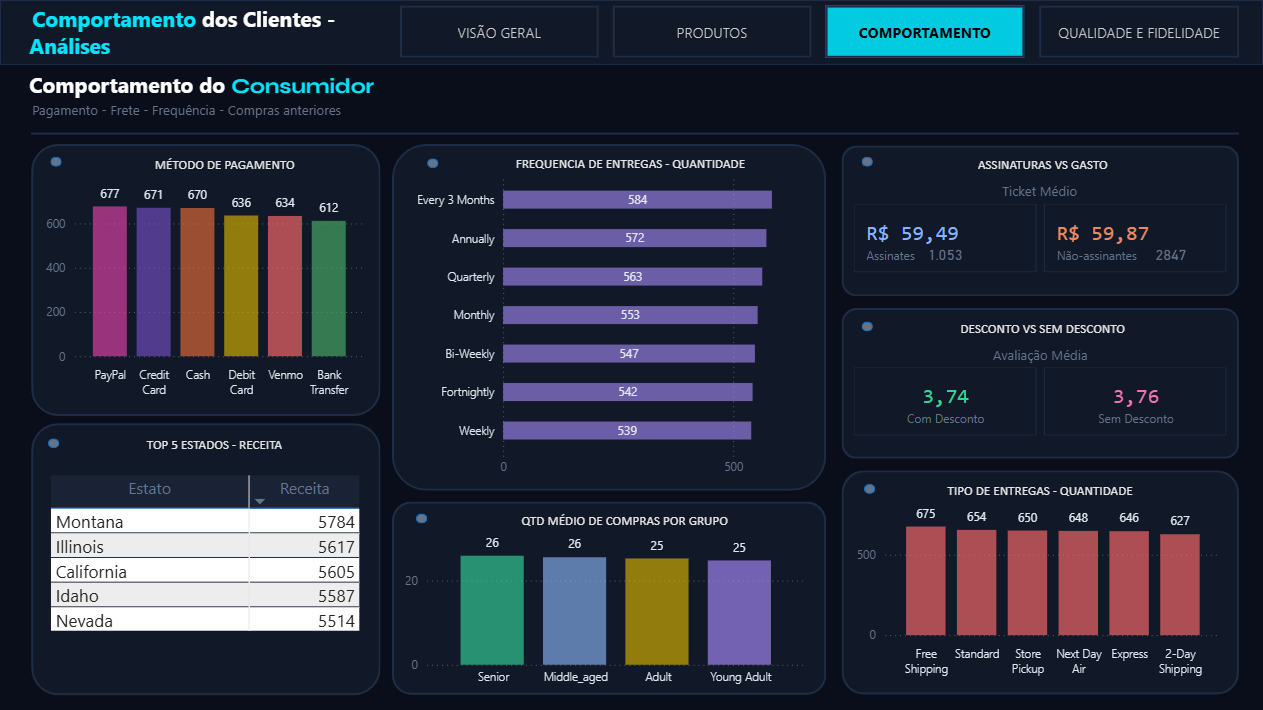

This screenshot's page, from the dashboard's own definition file:
{"tool":"powerbi","page":{"name":"COMPORTAMENTO","canvas":[1280,720],"ordinal":2},"visuals":[{"type":"shape","box":[852.9,147.6,402.9,152.9],"z":0},{"type":"shape","box":[0,0,1280,65.7],"z":1000},{"type":"shape","box":[31.4,145.7,354.3,275.7],"z":2000},{"type":"textbox","box":[12.9,0,348.6,65.7],"z":3000},{"type":"actionButton","box":[405.7,5.7,201.4,52.9],"z":4000},{"type":"shape","box":[872.9,159,11.4,10],"z":5000},{"type":"textbox","box":[955.7,150.4,192.9,30],"z":6000},{"type":"textbox","box":[1002.9,178.6,101.4,28.6],"z":7000},{"type":"actionButton","box":[621.4,5.7,201.4,52.9],"z":8000},{"type":"actionButton","box":[837.1,5.7,201.4,52.9],"z":9000},{"type":"actionButton","box":[1052.9,5.7,202.9,52.9],"z":10000},{"type":"textbox","box":[12.9,65.7,608.6,62.9],"z":11000},{"type":"shape","box":[31.4,128.6,1224.3,12.9],"z":12000},{"type":"shape","box":[31.4,428.6,354.3,275.7],"z":13000},{"type":"shape","box":[397.1,145.7,440,351.4],"z":14000},{"type":"shape","box":[397.1,508.6,440,195.7],"z":15000},{"type":"shape","box":[852.9,477.1,402.9,227.1],"z":16000},{"type":"cardVisual","fields":{"Data":["Medidas.Ticket Médio Assinates","Medidas.Ticket Médio não Assinates"]},"box":[852.9,194.3,402.9,98.6],"z":17000},{"type":"card","fields":{"Values":["Medidas.Assiantes"]},"box":[901.4,244.3,112.9,30],"z":18000},{"type":"card","fields":{"Values":["Medidas.Nao Assinantes"]},"box":[1130,244.3,112.9,30],"z":19000},{"type":"shape","box":[852.9,312.3,402.9,152.9],"z":20000},{"type":"shape","box":[872.9,325.7,11.4,10],"z":21000},{"type":"textbox","box":[955.7,317.1,192.9,30],"z":22000},{"type":"textbox","box":[978.6,344.3,151.4,28.6],"z":23000},{"type":"cardVisual","fields":{"Data":["Medidas.Avaliacao Media com Desconto","Medidas.Avaliacao Media sem Desconto"]},"box":[852.9,360,402.9,98.6],"z":24000},{"type":"shape","box":[51.4,158.6,11.4,10],"z":26000},{"type":"textbox","box":[131.4,150.4,192.9,30],"z":27000},{"type":"shape","box":[875.7,490.4,11.4,10],"z":32000},{"type":"textbox","box":[947.1,481.4,214.3,30],"z":33000},{"type":"shape","box":[421.4,520.4,11.4,10],"z":34000},{"type":"textbox","box":[494.3,511.4,277.1,30],"z":35000},{"type":"shape","box":[48.6,444.7,11.4,10],"z":36000},{"type":"textbox","box":[110,435.7,214.3,30],"z":37000},{"type":"shape","box":[432.9,160.4,11.4,10],"z":38000},{"type":"textbox","box":[507.1,150,264.3,32.9],"z":39000},{"type":"tableEx","fields":{"Values":["public customer.location","Medidas.Receita Total"]},"box":[45.7,477.1,328.6,227.1],"z":40000},{"type":"barChart","fields":{"Category":["public customer.frequency_of_purchases"],"Y":["Medidas.QTD Vendas"]},"box":[415.7,164.3,407.1,325.7],"z":40500},{"type":"columnChart","fields":{"Category":["public customer.age_group"],"Y":["Medidas.Média Compras Anteriores"]},"box":[405.7,527.1,417.1,175.7],"z":41000},{"type":"columnChart","fields":{"Category":["public customer.shipping_type"],"Y":["Medidas.QTD Vendas"]},"box":[862.9,497.1,380,195.7],"z":41500},{"type":"columnChart","fields":{"Category":["public customer.payment_method"],"Y":["Medidas.QTD Vendas"]},"box":[41.4,174.3,332.9,235.7],"z":42000}]}

Visuals, with their boxes in screenshot pixels (x1, y1, x2, y2), scaled from the page's 1280x720 canvas onto the 1263x710 screenshot:
shape: locate(842, 146, 1239, 296)
shape: locate(0, 0, 1262, 65)
shape: locate(31, 144, 381, 416)
textbox: locate(13, 0, 357, 65)
actionButton: locate(400, 6, 599, 58)
shape: locate(861, 157, 873, 167)
textbox: locate(943, 148, 1133, 178)
textbox: locate(990, 176, 1090, 204)
actionButton: locate(613, 6, 812, 58)
actionButton: locate(826, 6, 1025, 58)
actionButton: locate(1039, 6, 1239, 58)
textbox: locate(13, 65, 613, 127)
shape: locate(31, 127, 1239, 140)
shape: locate(31, 423, 381, 695)
shape: locate(392, 144, 826, 490)
shape: locate(392, 502, 826, 695)
shape: locate(842, 470, 1239, 694)
cardVisual - Medidas.Ticket Médio Assinates x Medidas.Ticket Médio não Assinates: locate(842, 192, 1239, 289)
card - Medidas.Assiantes: locate(889, 241, 1001, 270)
card - Medidas.Nao Assinantes: locate(1115, 241, 1226, 270)
shape: locate(842, 308, 1239, 459)
shape: locate(861, 321, 873, 331)
textbox: locate(943, 313, 1133, 342)
textbox: locate(966, 340, 1115, 368)
cardVisual - Medidas.Avaliacao Media com Desconto x Medidas.Avaliacao Media sem Desconto: locate(842, 355, 1239, 452)
shape: locate(51, 156, 62, 166)
textbox: locate(130, 148, 320, 178)
shape: locate(864, 484, 875, 493)
textbox: locate(935, 475, 1146, 504)
shape: locate(416, 513, 427, 523)
textbox: locate(488, 504, 761, 534)
shape: locate(48, 439, 59, 448)
textbox: locate(109, 430, 320, 459)
shape: locate(427, 158, 438, 168)
textbox: locate(500, 148, 761, 180)
tableEx - public customer.location x Medidas.Receita Total: locate(45, 470, 369, 694)
barChart - public customer.frequency_of_purchases x Medidas.QTD Vendas: locate(410, 162, 812, 483)
columnChart - public customer.age_group x Medidas.Média Compras Anteriores: locate(400, 520, 812, 693)
columnChart - public customer.shipping_type x Medidas.QTD Vendas: locate(851, 490, 1226, 683)
columnChart - public customer.payment_method x Medidas.QTD Vendas: locate(41, 172, 369, 404)
